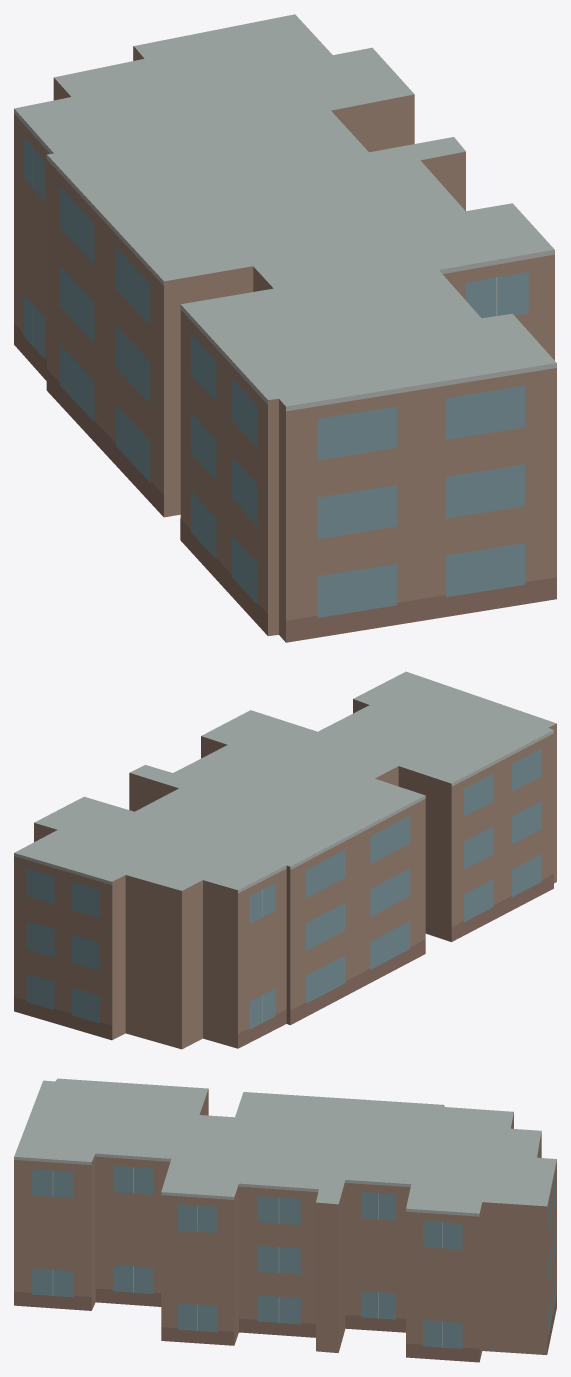
Rendered from survey-upis-32895719.glb.
3 views of the same model, one above another, from view 1: azimuth 30°, elevation 25°; view 2: azimuth 150°, elevation 25°; view 3: azimuth 270°, elevation 25° (orthographic). The views are drawn at different scales.
Parts seen in each view (by area): view 1: survey-upis-32895719.tmp; view 2: survey-upis-32895719.tmp; view 3: survey-upis-32895719.tmp.
Part boxes in pixels (x1,y1,x2,y2): survey-upis-32895719.tmp: (14,14,556,642); survey-upis-32895719.tmp: (14,671,556,1049); survey-upis-32895719.tmp: (14,1078,556,1362).
Size of the model in its own units: 23.29 by 11.95 by 39.52.
